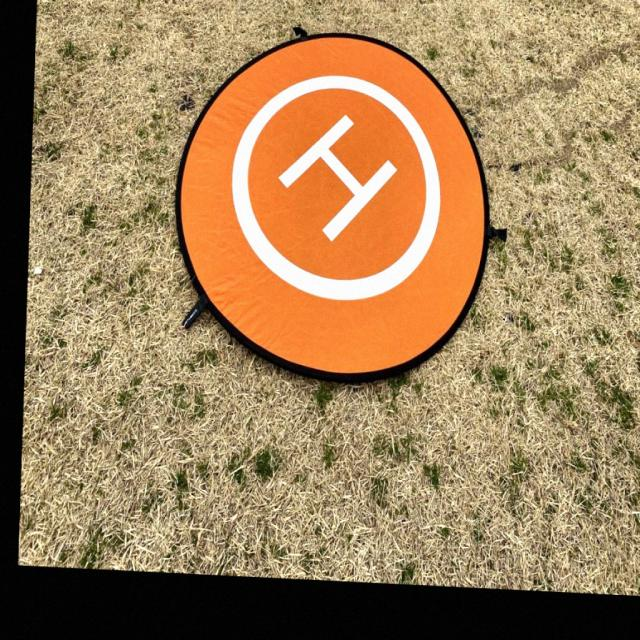helipad: (228, 70, 444, 306)
